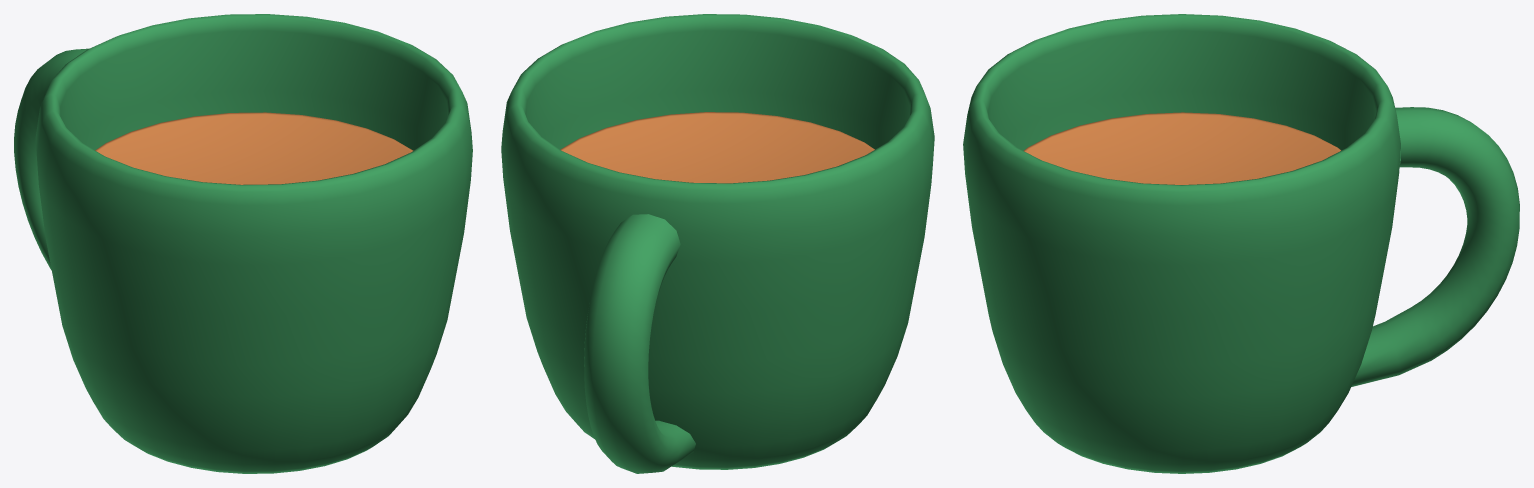
File: cup.glb
The picture shows the model from 3 angles, left to right: view 1: azimuth 30°, elevation 25°; view 2: azimuth 150°, elevation 25°; view 3: azimuth 270°, elevation 25°; orthographic projection.
Parts seen in each view (by area): view 1: Circle.002; view 2: Circle.002; view 3: Circle.002.
Part boxes in pixels (box(x1,y1,x2,y2)): Circle.002: box(14, 14, 472, 473); Circle.002: box(501, 14, 934, 473); Circle.002: box(963, 14, 1519, 473).
Bounding box in the file's own units: 0.7402 × 0.5855 × 0.9409.
